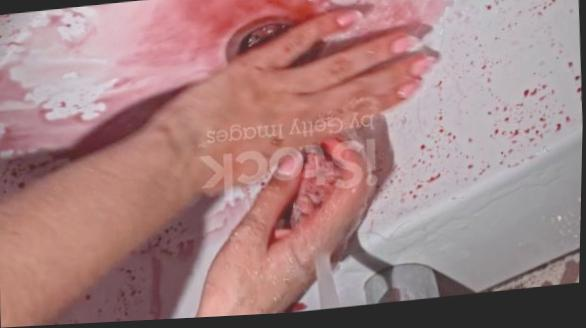Fire: (368, 0, 583, 236), (50, 201, 216, 326), (142, 0, 332, 61)
